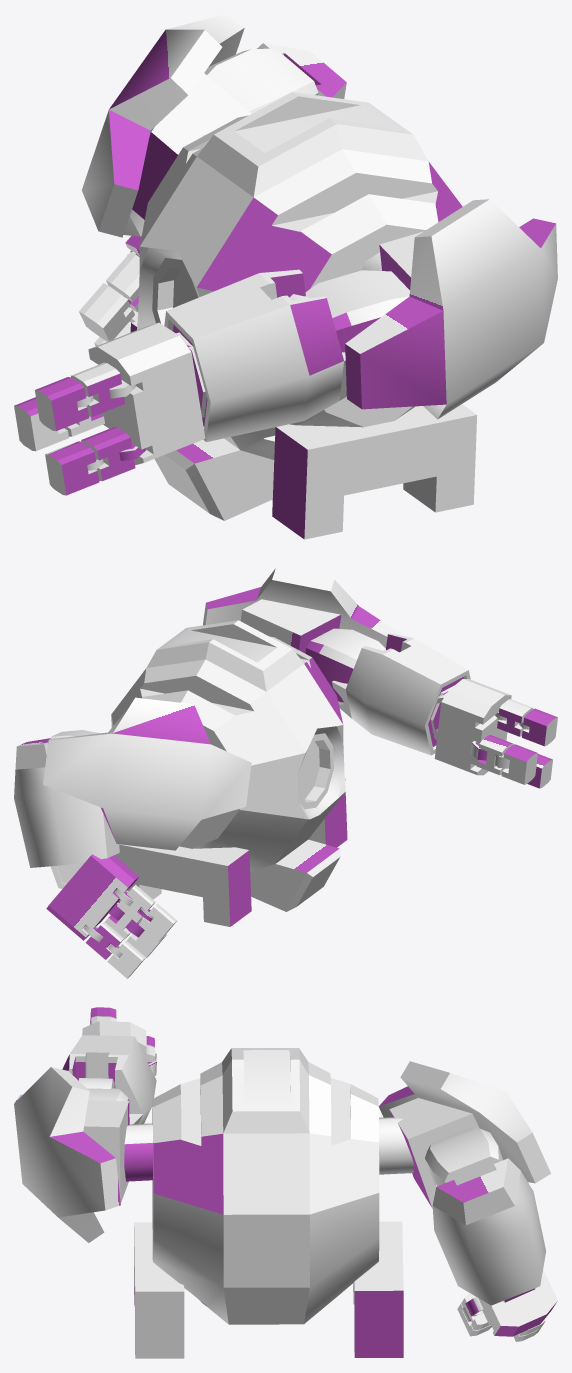
File: body_shooing7.obj
3 renders of one model, top to bottom at view 1: azimuth 30°, elevation 25°; view 2: azimuth 150°, elevation 25°; view 3: azimuth 270°, elevation 25°, orthographic. The views are drawn at different scales.
Visible parts, largest first — view 1: Plane001, Object006, Object002, Object007, Object008, Object004, Object003; view 2: Plane001, Object002, Object006, Object007, Object008, Object004, Object003; view 3: Plane001, Object006, Object002, Object003, Object007, Object004, Object008, Object001, Object005.
Boxes of the visible parts, x1=… form: Plane001: x1=130, y1=92, x2=477, y2=539; Object006: x1=305, y1=199, x2=557, y2=419; Object002: x1=81, y1=14, x2=318, y2=237; Object007: x1=164, y1=269, x2=346, y2=442; Object008: x1=14, y1=322, x2=205, y2=495; Object004: x1=79, y1=235, x2=141, y2=346; Object003: x1=257, y1=43, x2=346, y2=98; Plane001: x1=111, y1=620, x2=347, y2=926; Object002: x1=43, y1=697, x2=251, y2=850; Object006: x1=203, y1=568, x2=404, y2=704; Object007: x1=332, y1=633, x2=470, y2=755; Object008: x1=432, y1=679, x2=557, y2=788; Object004: x1=46, y1=854, x2=177, y2=978; Object003: x1=14, y1=738, x2=119, y2=867; Plane001: x1=134, y1=1048, x2=403, y2=1358; Object006: x1=14, y1=1067, x2=129, y2=1242; Object002: x1=378, y1=1061, x2=550, y2=1208; Object003: x1=432, y1=1158, x2=545, y2=1305; Object007: x1=62, y1=1035, x2=156, y2=1124; Object004: x1=457, y1=1269, x2=557, y2=1341; Object008: x1=82, y1=1007, x2=156, y2=1075; Object001: x1=379, y1=1117, x2=414, y2=1174; Object005: x1=124, y1=1123, x2=152, y2=1181.
Size of the model in its own units: 168 by 113 by 191.
